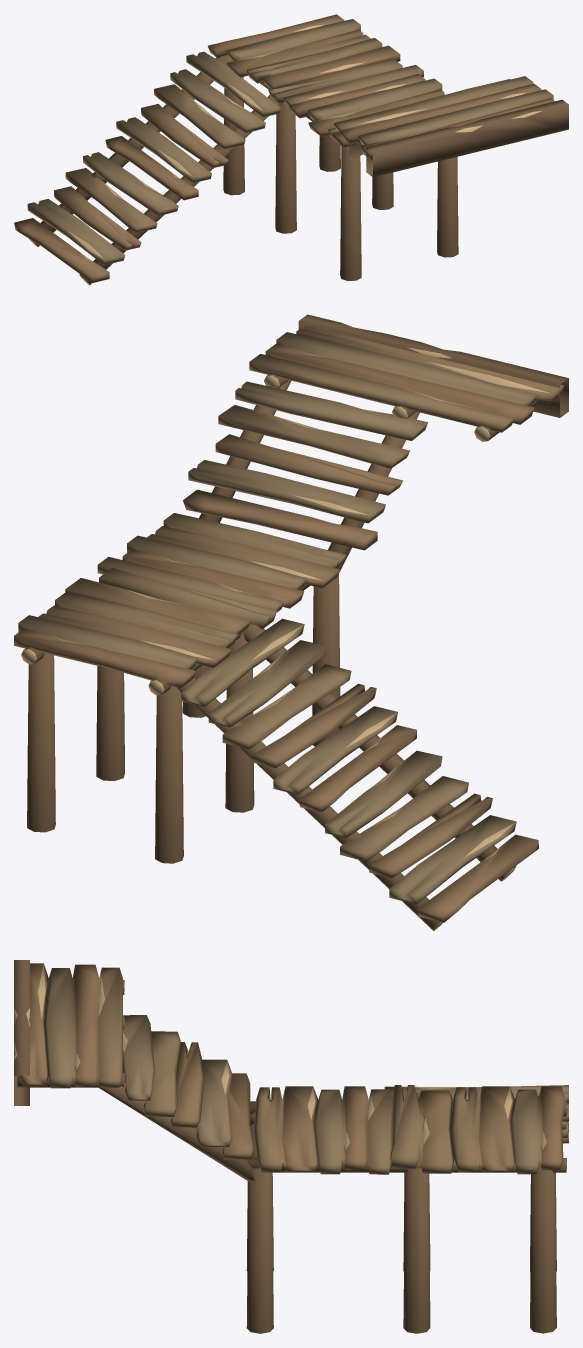
The model's file is rpgpp_ag_stairs_interior_01c_3m.fbx.
3 views of the same model, one above another, from view 1: azimuth 30°, elevation 25°; view 2: azimuth 150°, elevation 25°; view 3: azimuth 270°, elevation 25° (orthographic). The views are drawn at different scales.
Parts seen in each view (by area): view 1: rpgpp_ag_stairs_interior_01c_3m; view 2: rpgpp_ag_stairs_interior_01c_3m; view 3: rpgpp_ag_stairs_interior_01c_3m.
Part boxes in pixels (x1,y1,x2,y2): rpgpp_ag_stairs_interior_01c_3m: (14,14,568,285); rpgpp_ag_stairs_interior_01c_3m: (14,314,568,930); rpgpp_ag_stairs_interior_01c_3m: (14,960,568,1333).
Size of the model in its own units: 4.9 by 3.18 by 5.87.
